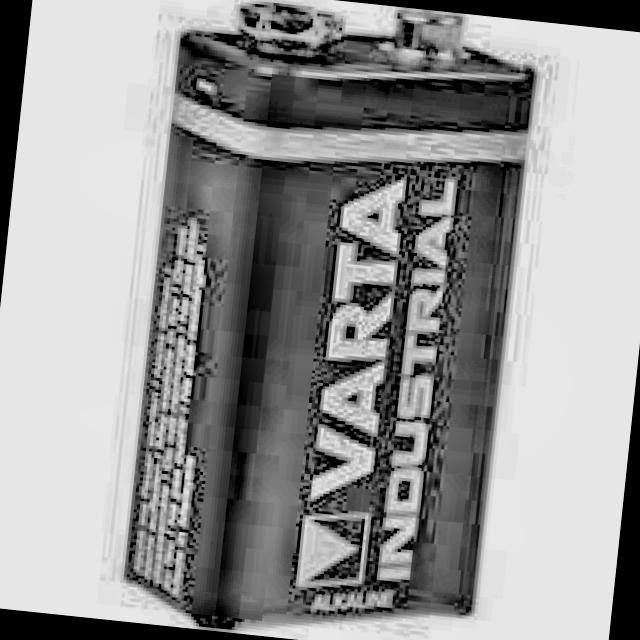Battery: (123, 0, 536, 640)
